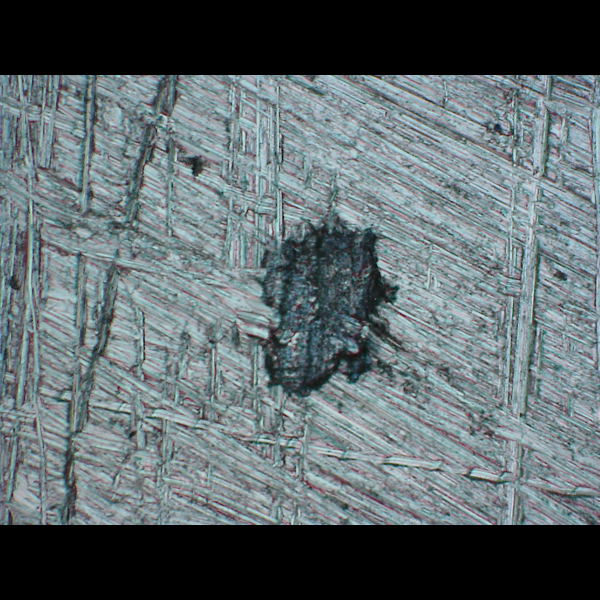d: (250, 198, 403, 407)
